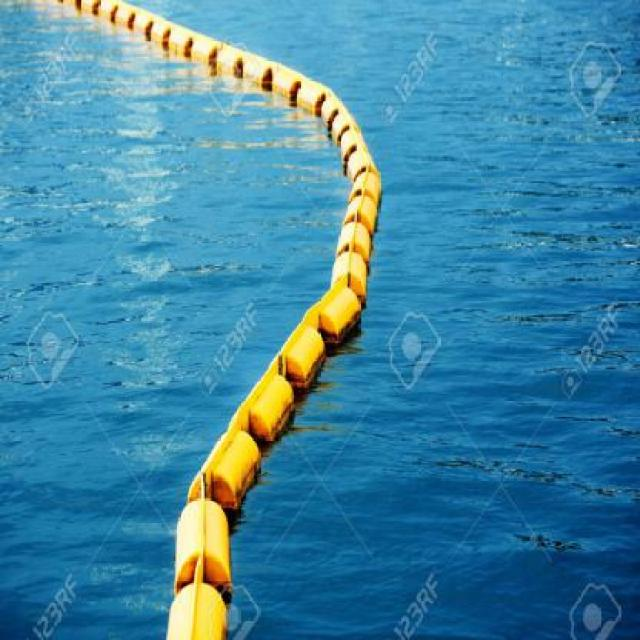a: (249, 39, 433, 377), (174, 359, 302, 581), (319, 214, 400, 385), (290, 75, 372, 199), (320, 230, 383, 346), (214, 415, 271, 541), (162, 539, 223, 637), (201, 33, 267, 122), (98, 9, 166, 62), (294, 343, 331, 437)
